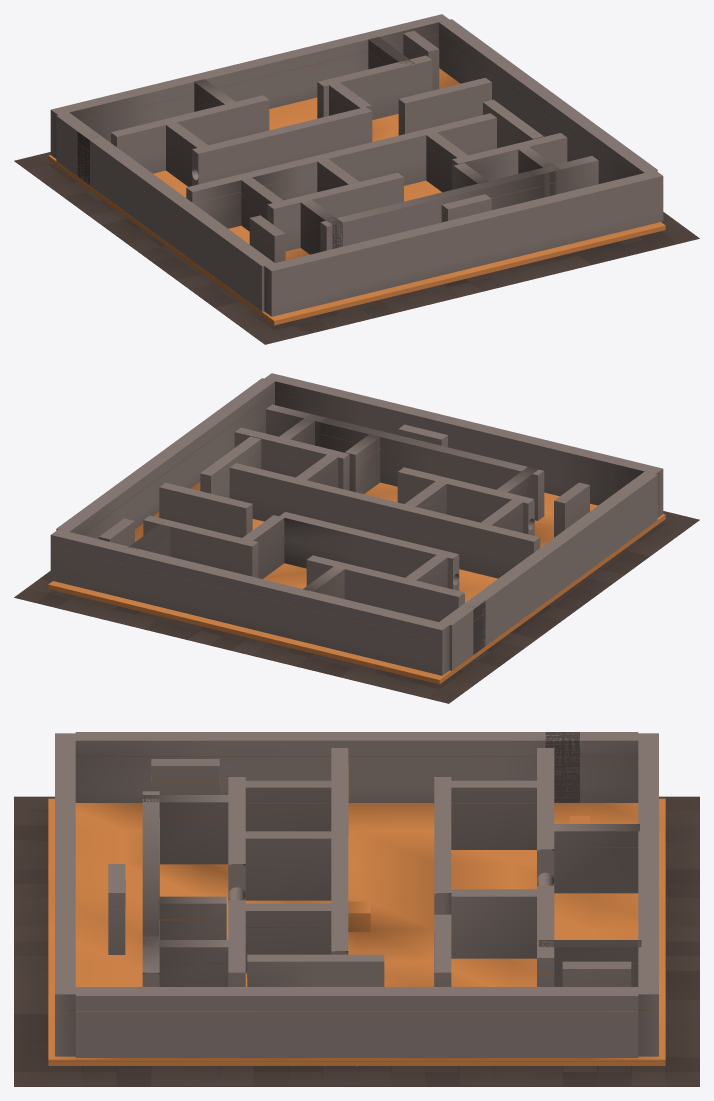
File: 01_world.glb
3 views of the same model, one above another, from view 1: azimuth 30°, elevation 25°; view 2: azimuth 150°, elevation 25°; view 3: azimuth 270°, elevation 25° (orthographic). The views are drawn at different scales.
Visible parts, largest first — view 1: world_11_body_nocol, world_01_body_nocol, world_10_body_nocol, world_00_body_nocol, world_11_foam_nocol, world_01_floor_noshadow_nocol, world_11_floor_noshadow_nocol, world_00_floor_noshadow_nocol, world_11_trim_noshadow_nocol; view 2: world_11_body_nocol, world_10_body_nocol, world_01_body_nocol, world_00_body_nocol, world_11_foam_nocol, world_00_floor_noshadow_nocol, world_10_floor_noshadow_nocol, world_01_floor_noshadow_nocol, world_11_trim_noshadow_nocol, world_10_trim_noshadow_nocol; view 3: world_11_body_nocol, world_01_body_nocol, world_11_foam_nocol, world_10_body_nocol, world_00_body_nocol, world_10_floor_noshadow_nocol, world_11_floor_noshadow_nocol, world_00_floor_noshadow_nocol, world_01_floor_noshadow_nocol, world_11_trim_noshadow_nocol, world_01_trim_noshadow_nocol.
Boxes of the visible parts, left/top/right/bottom form: world_11_body_nocol: left=264, top=19, right=663, bottom=316; world_01_body_nocol: left=56, top=112, right=403, bottom=311; world_10_body_nocol: left=50, top=14, right=491, bottom=158; world_00_body_nocol: left=77, top=79, right=372, bottom=186; world_11_foam_nocol: left=48, top=68, right=665, bottom=325; world_01_floor_noshadow_nocol: left=140, top=246, right=482, bottom=344; world_11_floor_noshadow_nocol: left=466, top=212, right=699, bottom=291; world_00_floor_noshadow_nocol: left=14, top=152, right=165, bottom=252; world_11_trim_noshadow_nocol: left=49, top=34, right=665, bottom=322; world_11_body_nocol: left=56, top=373, right=663, bottom=545; world_10_body_nocol: left=50, top=482, right=449, bottom=675; world_01_body_nocol: left=397, top=467, right=657, bottom=670; world_00_body_nocol: left=279, top=512, right=485, bottom=654; world_11_foam_nocol: left=48, top=482, right=665, bottom=684; world_00_floor_noshadow_nocol: left=231, top=605, right=573, bottom=703; world_10_floor_noshadow_nocol: left=14, top=571, right=247, bottom=650; world_01_floor_noshadow_nocol: left=548, top=511, right=699, bottom=611; world_11_trim_noshadow_nocol: left=48, top=393, right=664, bottom=681; world_10_trim_noshadow_nocol: left=51, top=499, right=448, bottom=642; world_11_body_nocol: left=55, top=733, right=638, bottom=1057; world_01_body_nocol: left=75, top=732, right=638, bottom=900; world_11_foam_nocol: left=48, top=798, right=665, bottom=1065; world_10_body_nocol: left=434, top=733, right=658, bottom=1056; world_00_body_nocol: left=434, top=732, right=639, bottom=914; world_10_floor_noshadow_nocol: left=357, top=941, right=699, bottom=1086; world_11_floor_noshadow_nocol: left=14, top=941, right=356, bottom=1086; world_00_floor_noshadow_nocol: left=659, top=796, right=699, bottom=941; world_01_floor_noshadow_nocol: left=14, top=796, right=54, bottom=941; world_11_trim_noshadow_nocol: left=48, top=818, right=665, bottom=1061; world_01_trim_noshadow_nocol: left=76, top=756, right=637, bottom=836.
Size of the model in its own units: 200 by 25.12 by 200.
